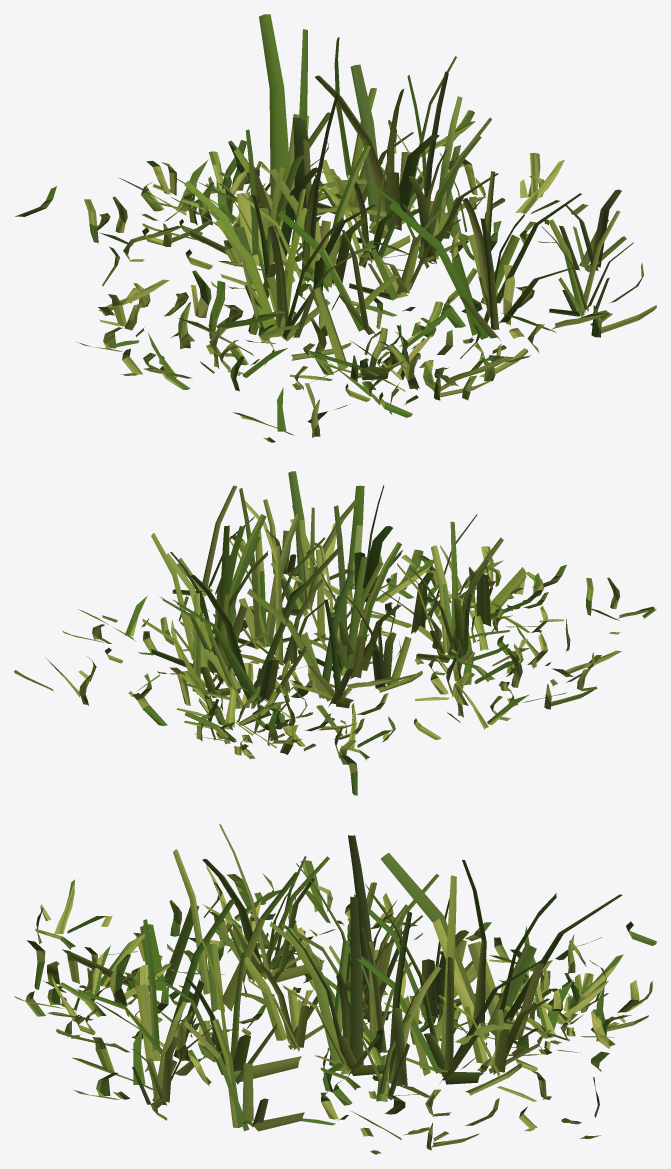
Rendered from medium_001.gltf.
3 renders of one model, top to bottom at view 1: azimuth 30°, elevation 25°; view 2: azimuth 150°, elevation 25°; view 3: azimuth 270°, elevation 25°, orthographic. The views are drawn at different scales.
Visible parts, largest first — view 1: medium.001; view 2: medium.001; view 3: medium.001.
Boxes of the visible parts, x1,y1,x2,y2 form: medium.001: (15, 14, 656, 442); medium.001: (14, 471, 656, 795); medium.001: (14, 824, 656, 1154).
Bounding box in the file's own units: 0.4566 × 0.1572 × 0.4523.
2 materials, 2 textured.
